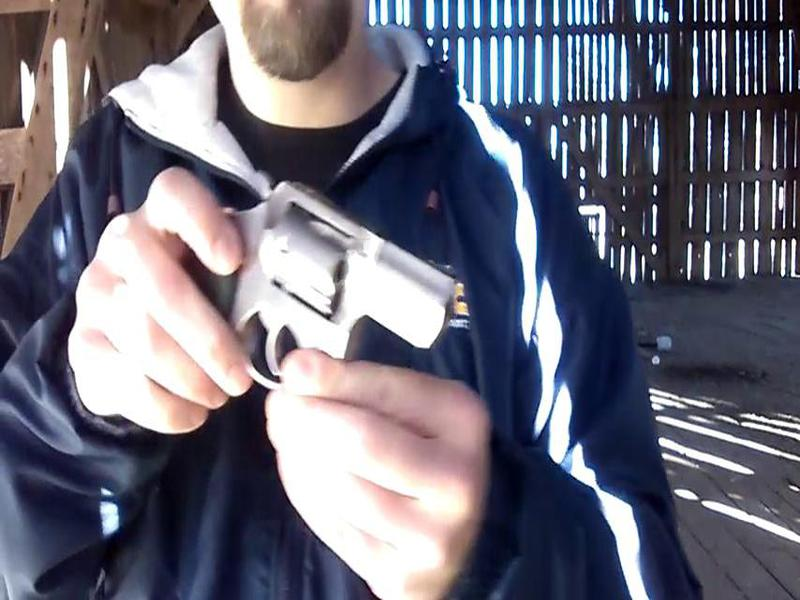Revolver: (191, 173, 460, 400)
